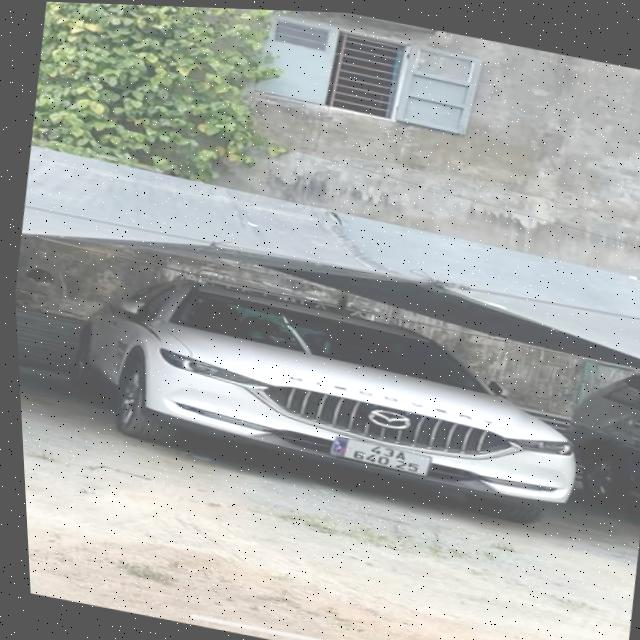car: (53, 252, 604, 549)
plate: (317, 422, 444, 487)
